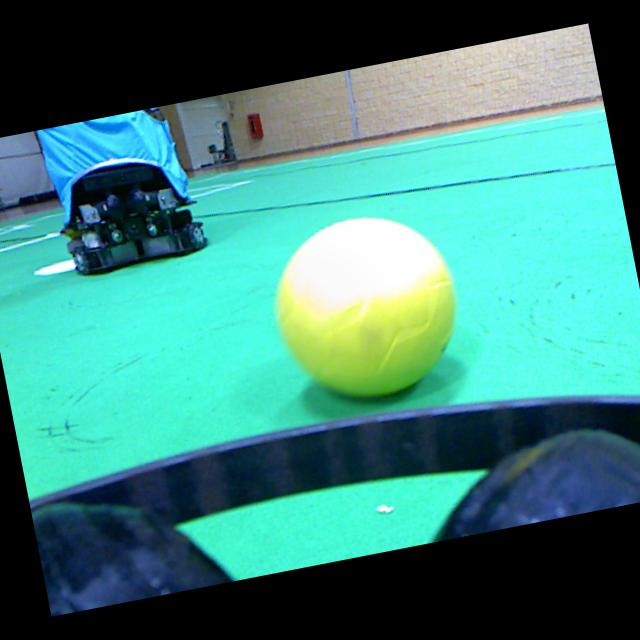ball: (277, 218, 454, 396)
